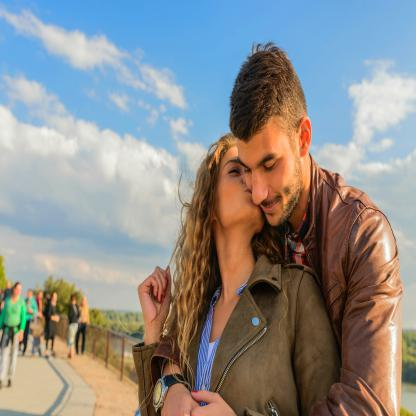Eye: (263, 159, 277, 171), (228, 166, 240, 176), (244, 166, 252, 174)
Mouth: (261, 200, 279, 214), (244, 188, 252, 194)
Nose: (252, 171, 268, 205), (244, 178, 245, 184)
